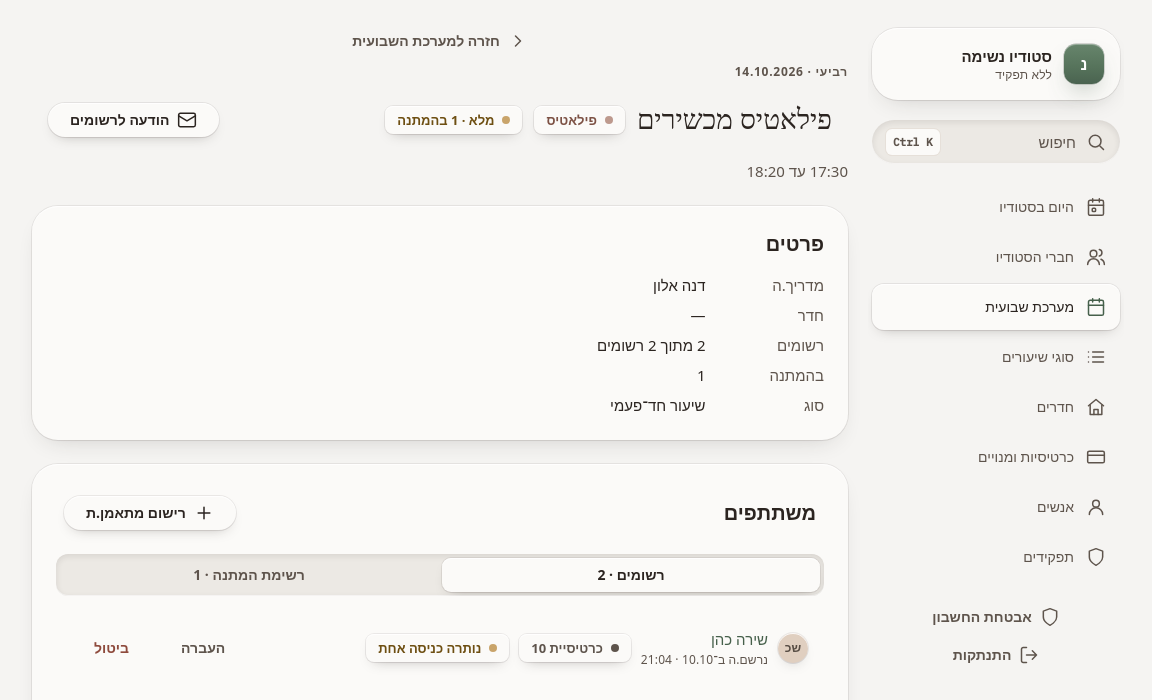
Scenario: the roster › lists who is booked and who waits, in line order
Expected: the list item that starts with "שירה כהן" shows "נרשם.ה ב־10.10 · 21:04", top-left (72, 629), bottom-right (808, 668)
Expected: the list item that starts with "שירה כהן" shows "נותרה כניסה אחת", top-left (378, 639), bottom-right (481, 657)
What coordinates should you click on to do the following:
click the tab "רשימת המתנה · 1"
I would click on:
 (249, 575)
Its box is top-left (60, 558), bottom-right (438, 592).
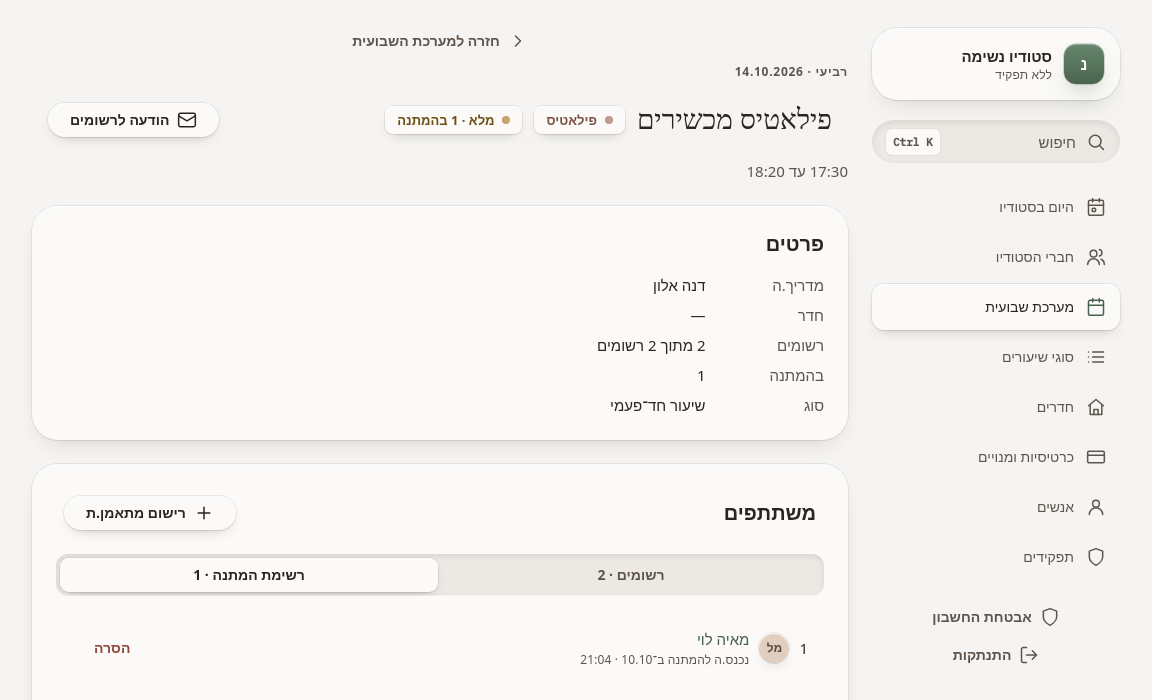
Expected: the text named "מקום 1 בהמתנה" is shown, top-left (799, 637), bottom-right (808, 659)
Now the number of list items is 1, box top-left (72, 629), bottom-right (808, 668)
Now the list item shows "מאיה לוי", box top-left (580, 628), bottom-right (749, 650)
